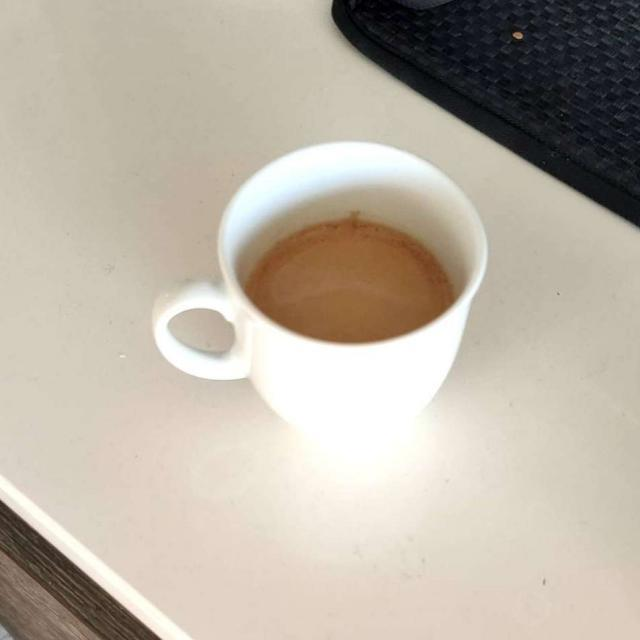espresso: (248, 217, 455, 338)
